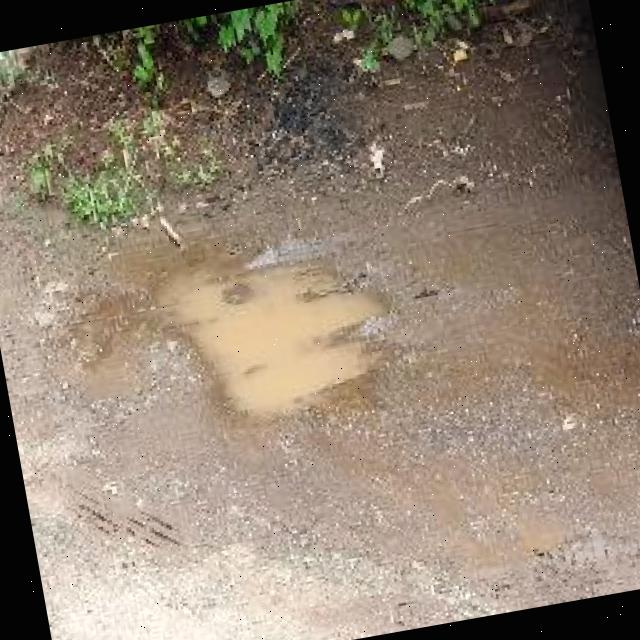stagnation: (132, 222, 410, 439)
